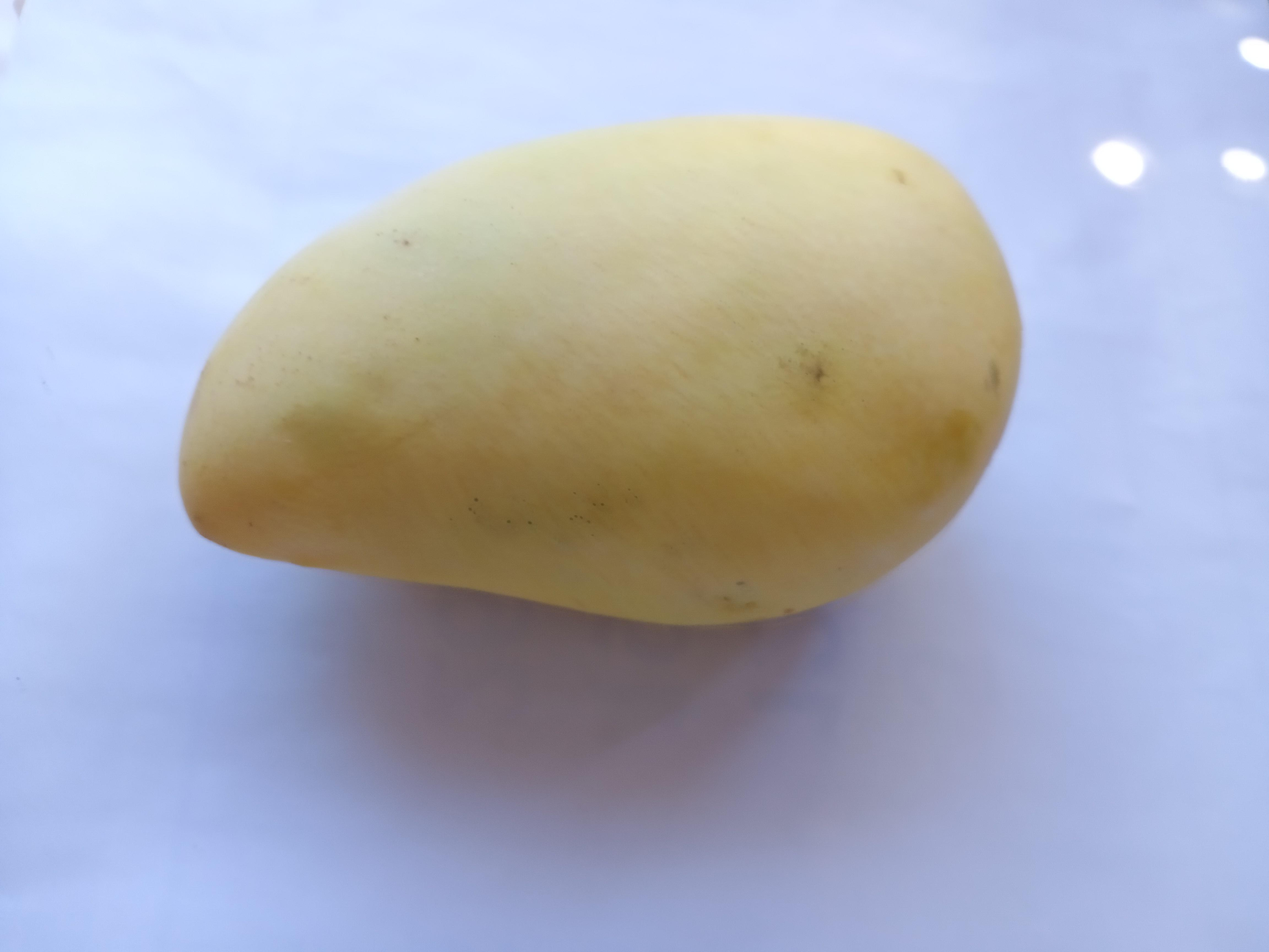Mango Ripe: (138, 52, 1049, 683)
